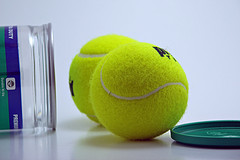tennis ball: (90, 40, 189, 145), (69, 33, 141, 128)
